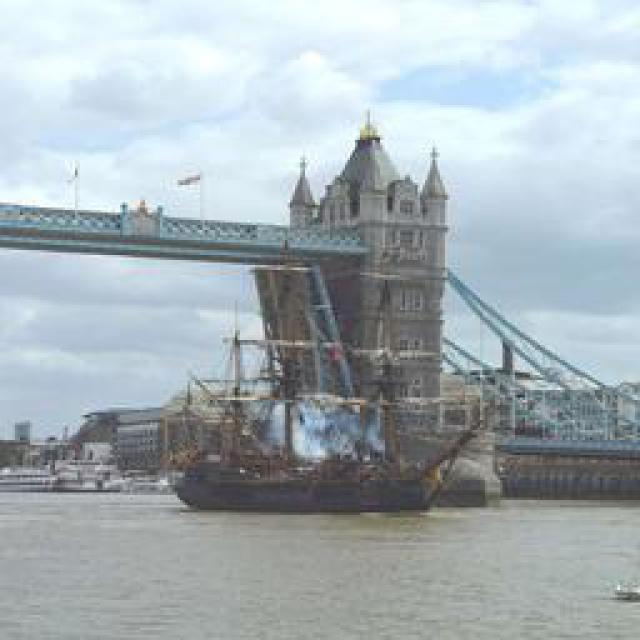Ship: (174, 340, 537, 515)
